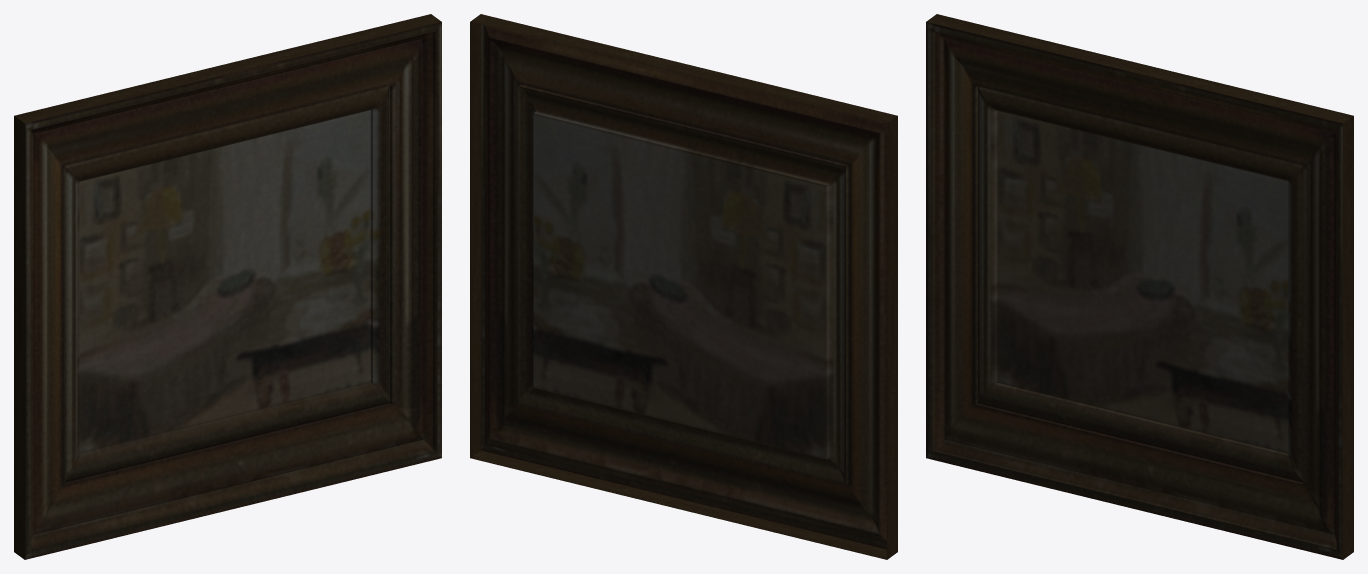
File: painting_2.obj
The picture shows the model from 3 angles, left to right: view 1: azimuth 30°, elevation 25°; view 2: azimuth 150°, elevation 25°; view 3: azimuth 330°, elevation 25°; orthographic projection.
Parts seen in each view (by area): view 1: painting_2; view 2: painting_2; view 3: painting_2.
Boxes of the visible parts, bbox=[...] form: painting_2: bbox=[14, 14, 441, 559]; painting_2: bbox=[470, 14, 897, 559]; painting_2: bbox=[926, 14, 1353, 559].
Size of the model in its own units: 0.9 by 0.9 by 0.04.
